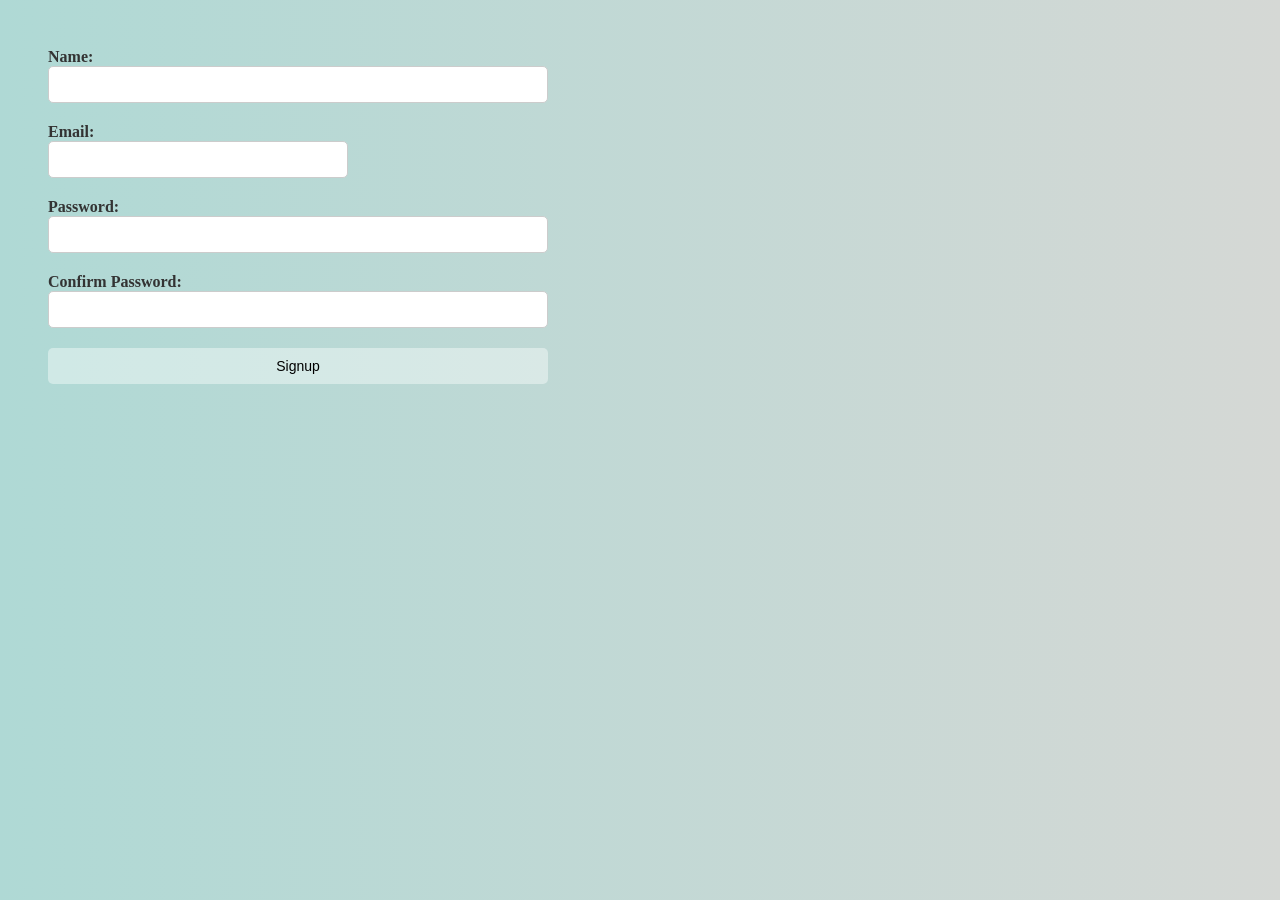
mismatching passwords are reported and nothing is sent
Type "Ada" into the field labelled "Name:" at (298, 84), box [48,66,548,103]
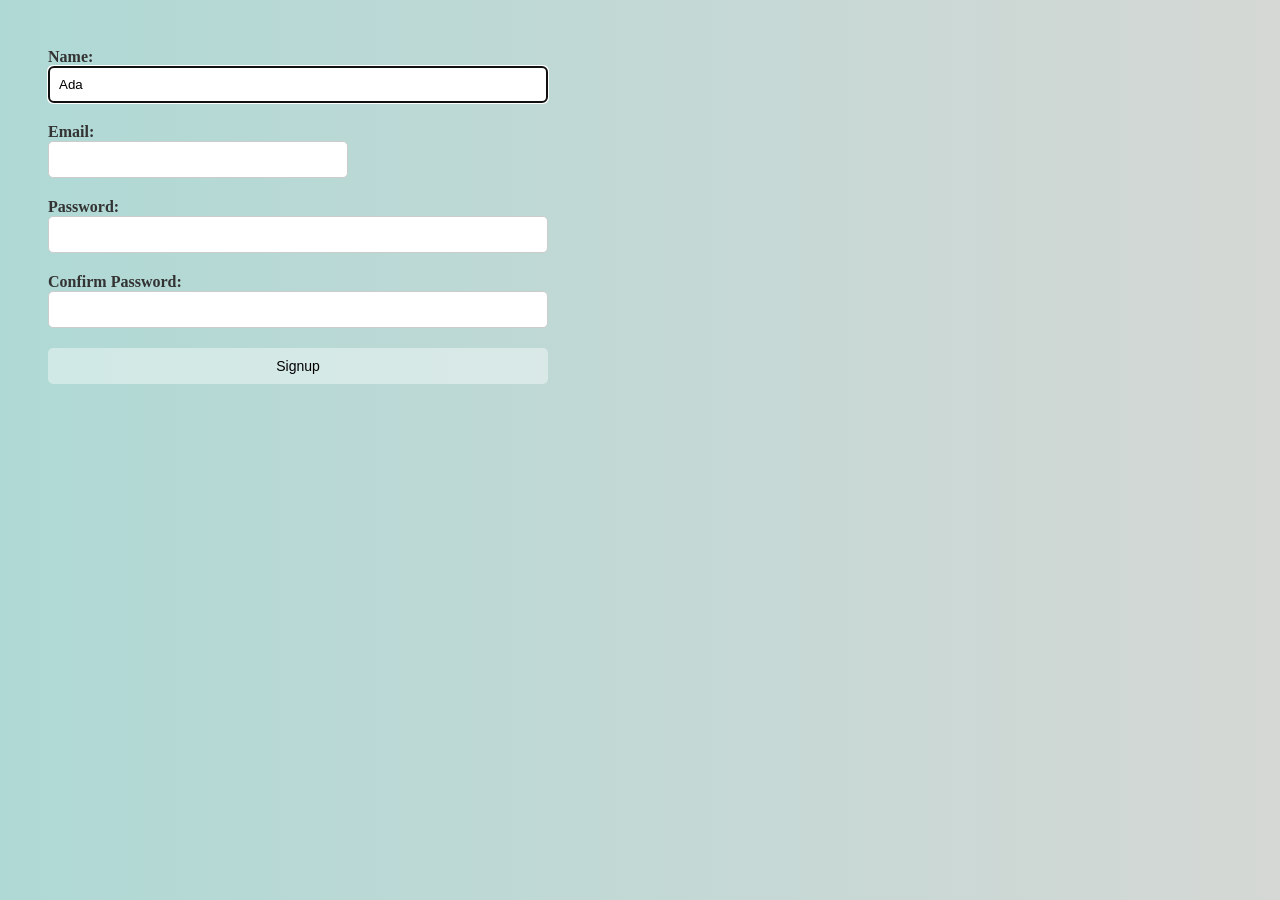
Type "ada@example.com" into the field labelled "Email:" at (198, 160), box [48,141,348,178]
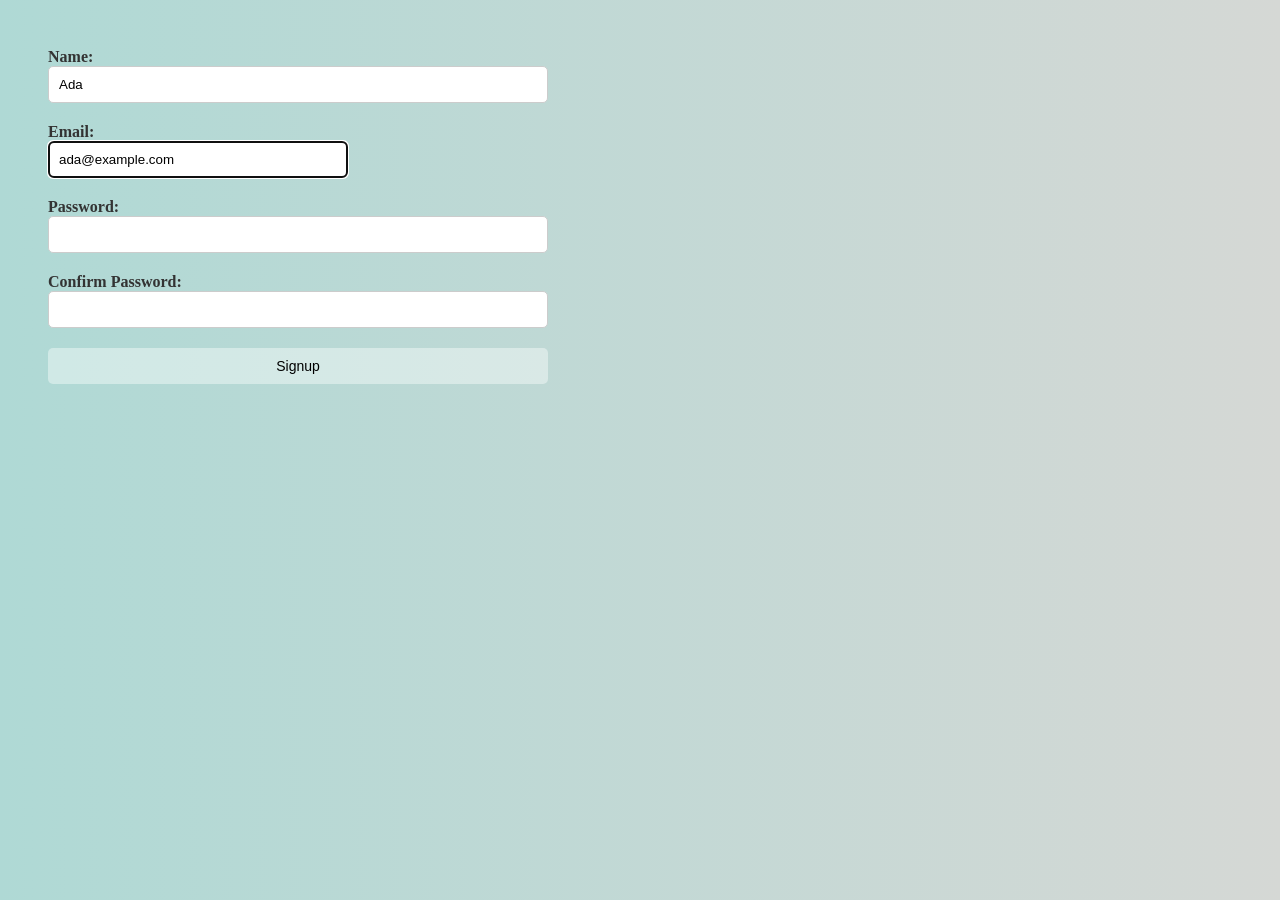
Type "harvest42" into the password field labelled "Password:" at (298, 234), box [48,216,548,253]
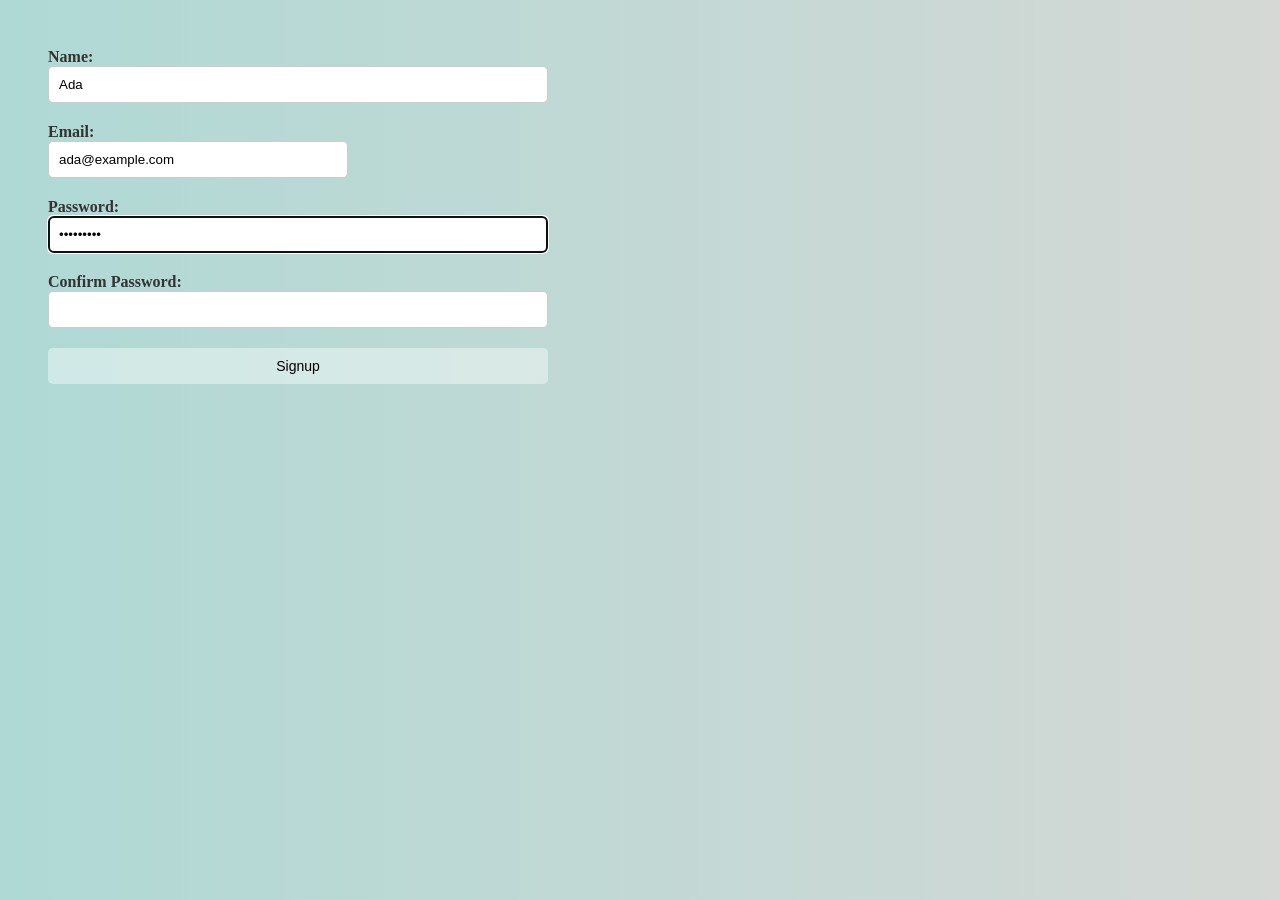
Type "other" into the password field labelled "Confirm Password:" at (298, 310), box [48,291,548,328]
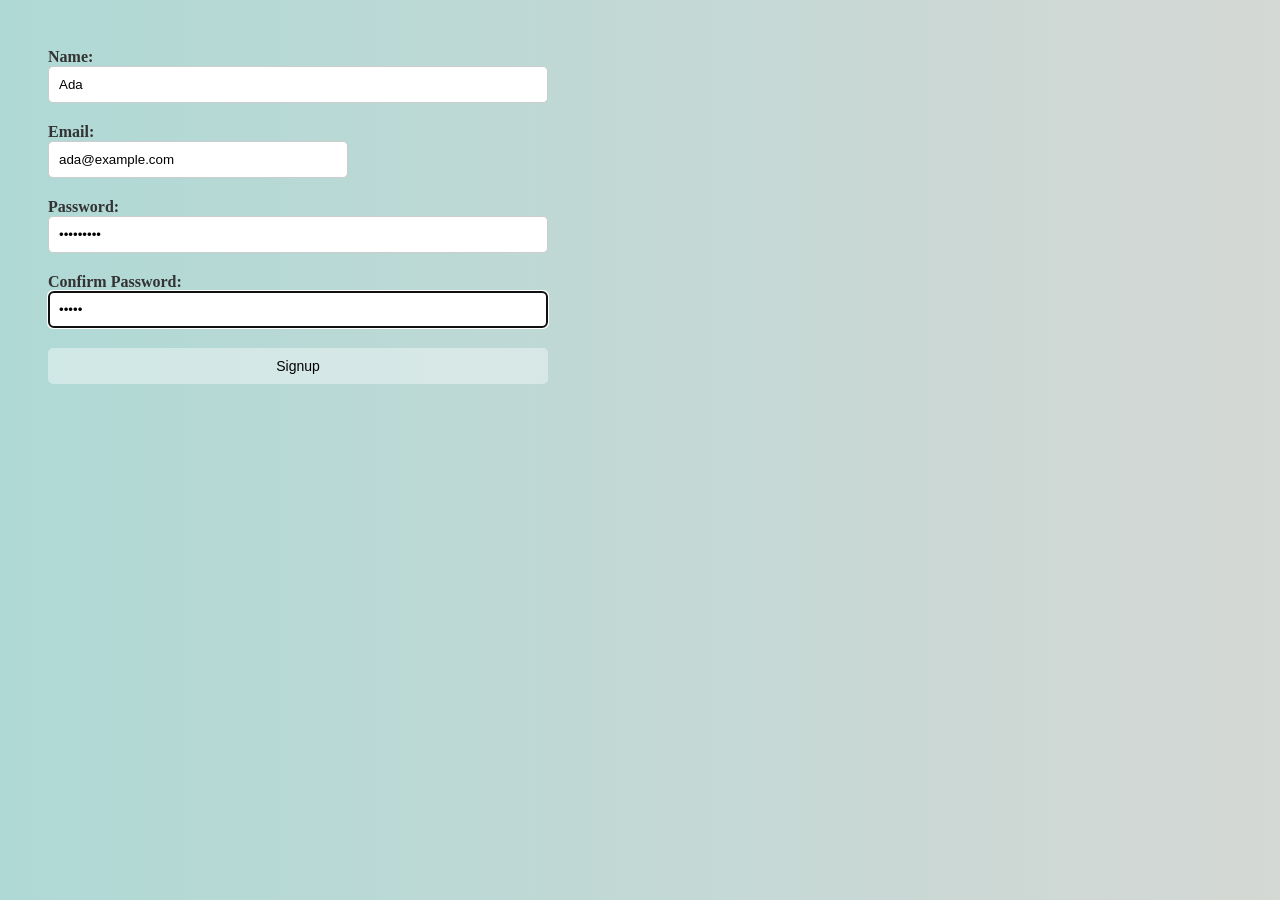
Click the button "Signup" at (298, 366), box [48,348,548,384]
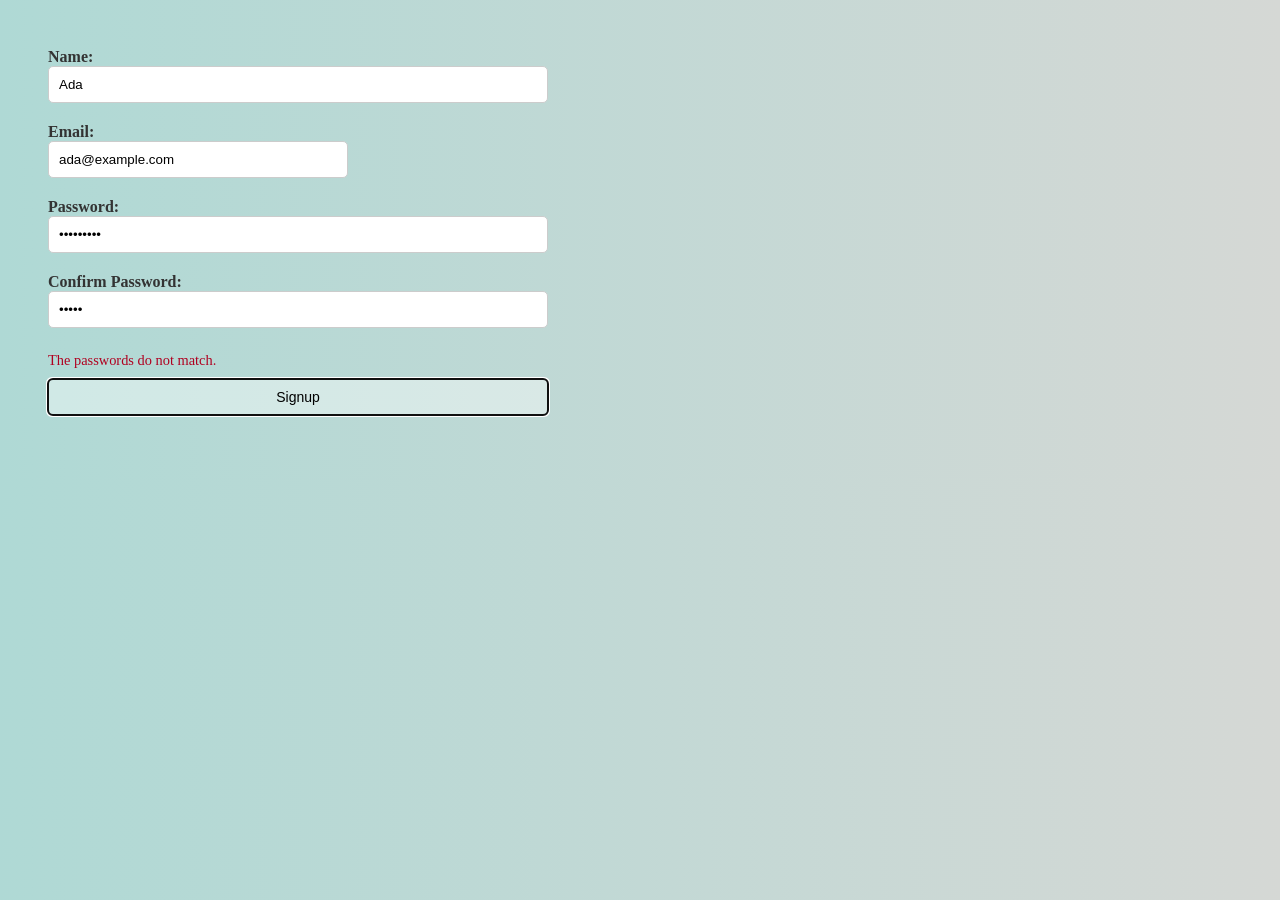
Expected: the text "The passwords do not match." is shown, [48,352,216,368]
